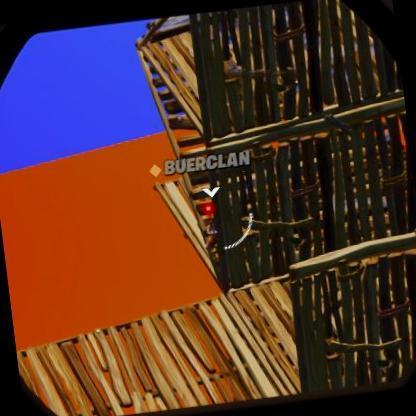person: (202, 202, 228, 257)
